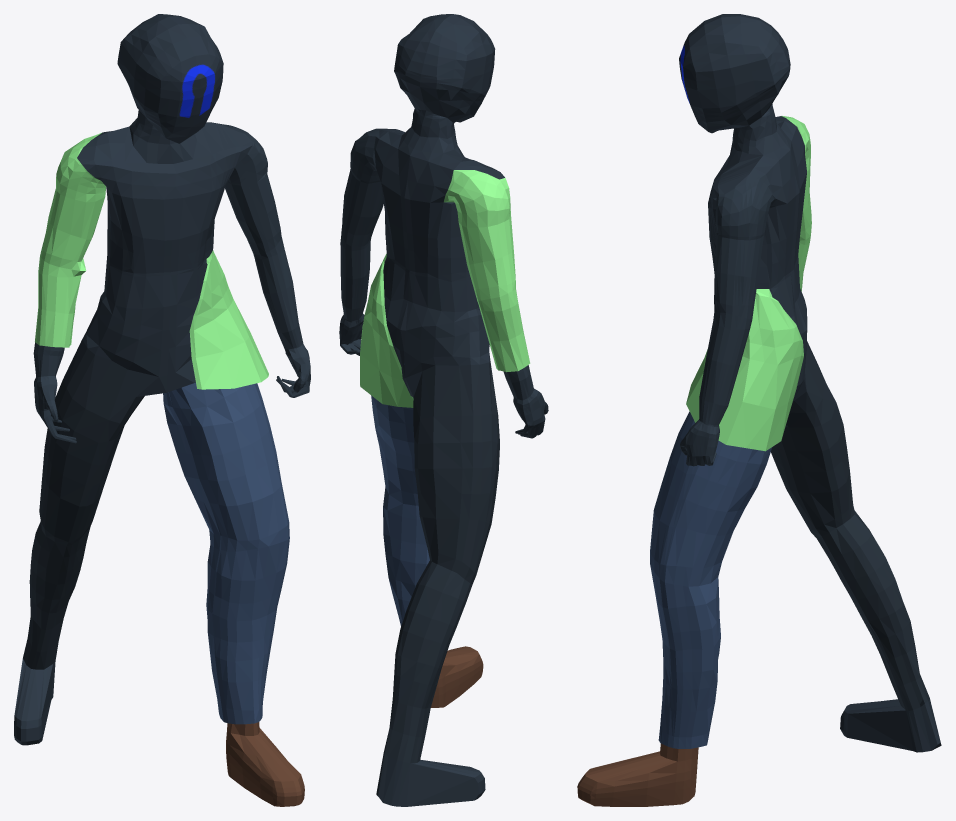
The model's file is Mar_Recover_000025.obj.
3 views of the same model, side by side, from view 1: azimuth 30°, elevation 25°; view 2: azimuth 150°, elevation 25°; view 3: azimuth 270°, elevation 25° (orthographic). The views are drawn at different scales.
Parts seen in each view (by area): view 1: Cube.000_Cube.001; view 2: Cube.000_Cube.001; view 3: Cube.000_Cube.001.
Part boxes in pixels (bbox=[...]): Cube.000_Cube.001: bbox=[14, 14, 310, 806]; Cube.000_Cube.001: bbox=[339, 14, 548, 806]; Cube.000_Cube.001: bbox=[577, 14, 941, 806].
Size of the model in its own units: 1.28 by 3.84 by 1.67.
